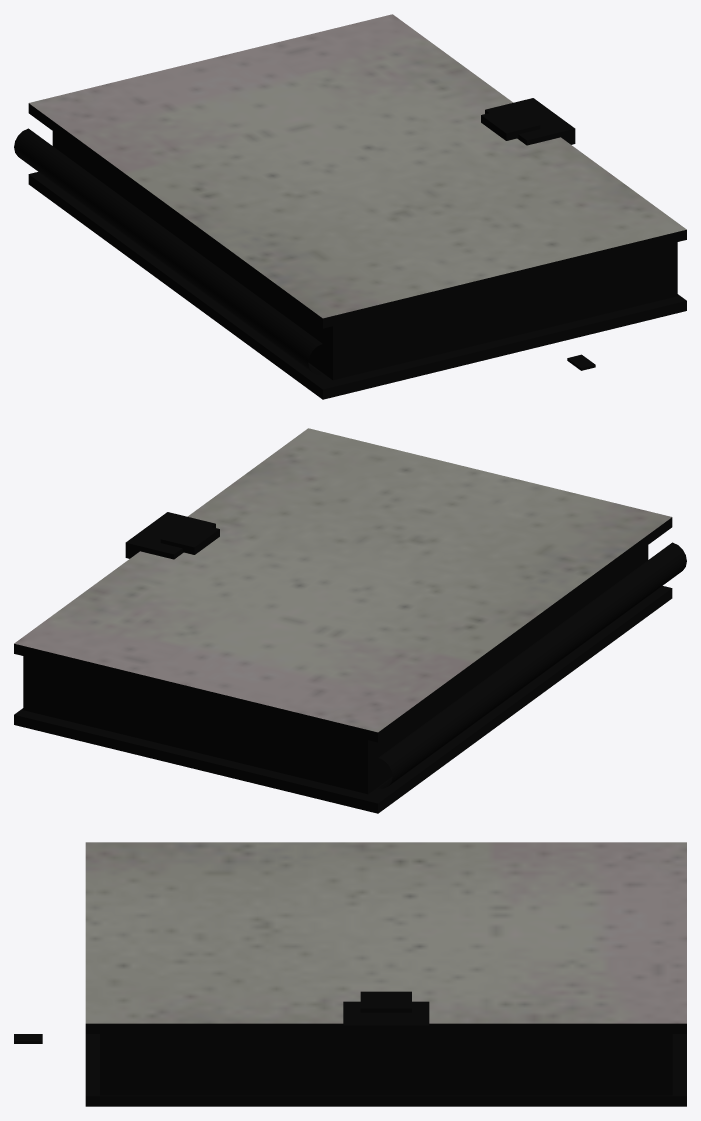
The model's file is diary_leather.fbx.
3 renders of one model, top to bottom at view 1: azimuth 30°, elevation 25°; view 2: azimuth 150°, elevation 25°; view 3: azimuth 270°, elevation 25°, orthographic. The views are drawn at different scales.
Visible parts, largest first — view 1: diary_leather_cover, diary_leather; view 2: diary_leather_cover, diary_leather; view 3: diary_leather_cover, diary_leather.
Part boxes in pixels (box(x1,y1,x2,y2)): diary_leather_cover: box(28, 14, 686, 328); diary_leather: box(14, 128, 686, 399); diary_leather_cover: box(14, 428, 672, 742); diary_leather: box(14, 542, 686, 813); diary_leather_cover: box(85, 842, 686, 1041); diary_leather: box(14, 1034, 686, 1106).
Size of the model in its own units: 0.162 by 0.0355 by 0.235.
